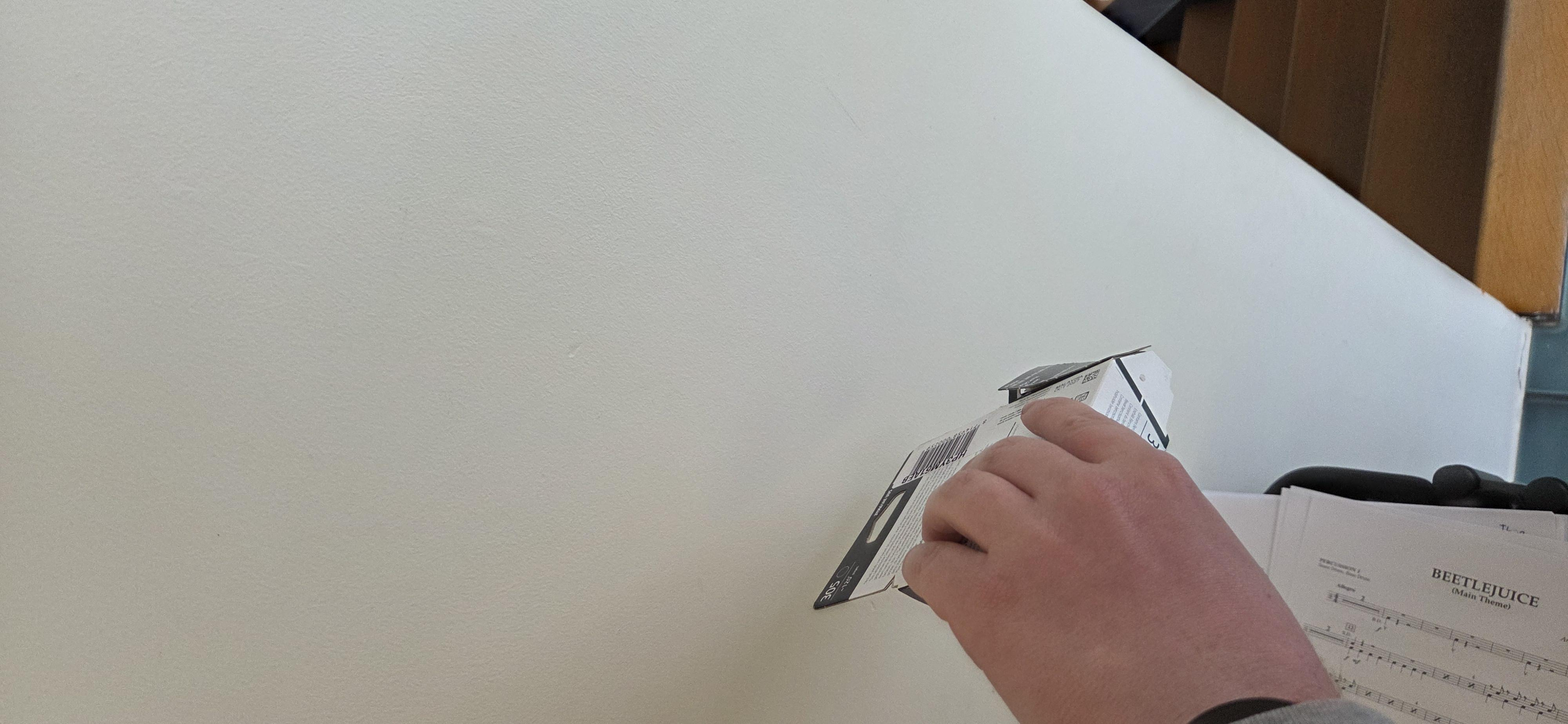Cardboard: (221, 375, 830, 551)
